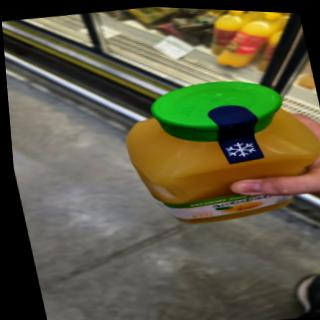Juice: (108, 66, 320, 246)
